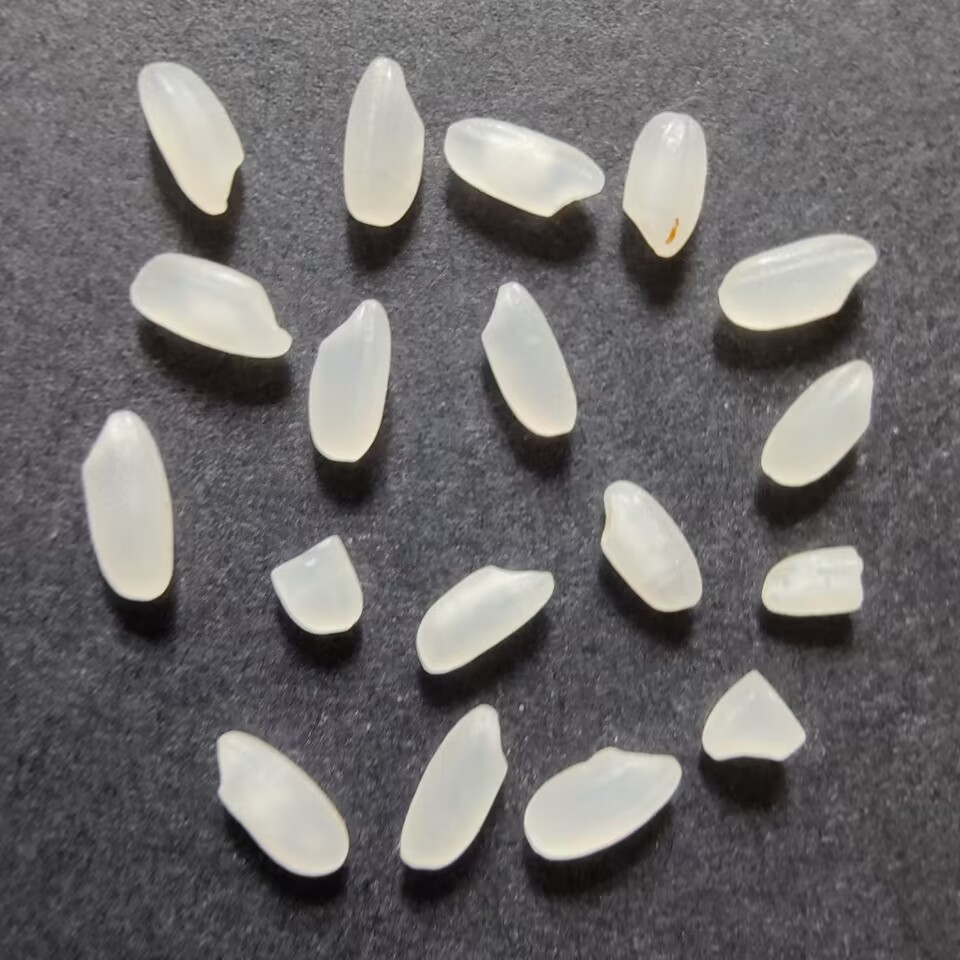broken: (696, 666, 809, 774), (266, 532, 368, 641), (755, 540, 873, 619)
rice: (205, 726, 355, 880), (391, 698, 514, 874), (76, 407, 183, 606), (519, 740, 688, 864), (123, 245, 294, 359), (441, 111, 610, 224), (408, 557, 561, 681), (136, 57, 249, 218), (711, 229, 883, 332), (754, 355, 884, 491), (301, 293, 401, 468), (337, 50, 433, 230), (479, 279, 583, 440), (594, 475, 708, 620), (618, 110, 709, 262)
